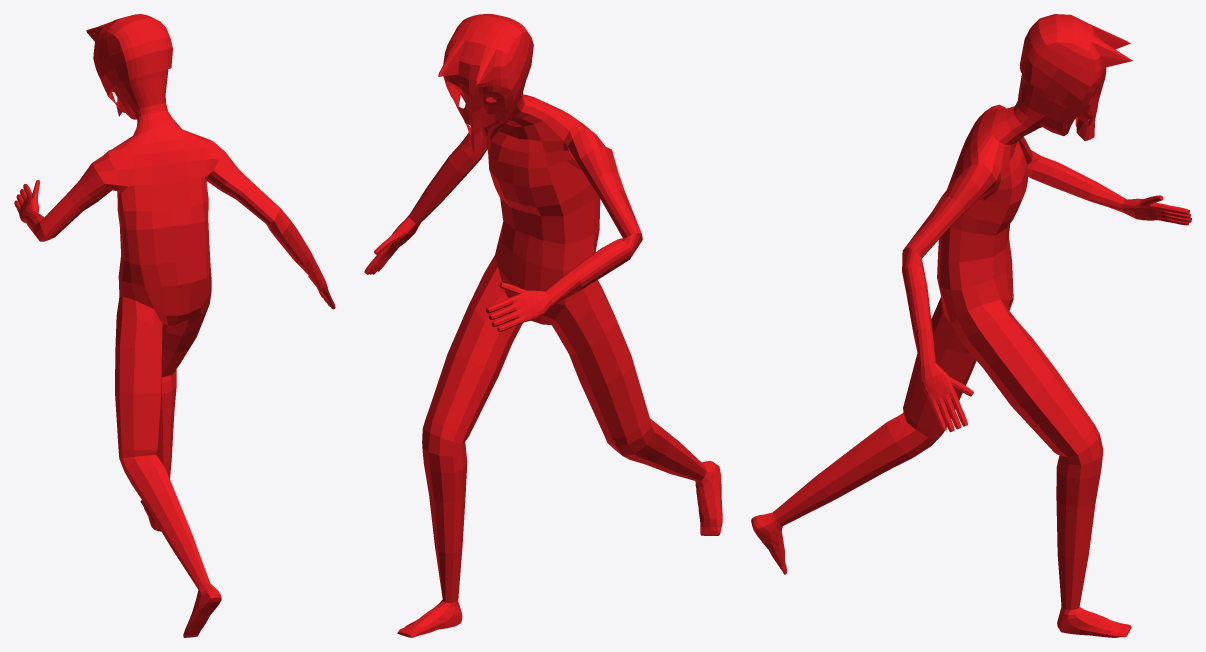
The model's file is marchaE_000055.obj.
3 views of the same model, side by side, from view 1: azimuth 30°, elevation 25°; view 2: azimuth 150°, elevation 25°; view 3: azimuth 270°, elevation 25° (orthographic). The views are drawn at different scales.
Visible parts, largest first — view 1: Plane.002_Plane.001; view 2: Plane.002_Plane.001; view 3: Plane.002_Plane.001.
Boxes of the visible parts, x1=… form: Plane.002_Plane.001: x1=14, y1=14, x2=335, y2=637; Plane.002_Plane.001: x1=364, y1=14, x2=722, y2=637; Plane.002_Plane.001: x1=751, y1=14, x2=1191, y2=637.
Size of the model in its own units: 3.42 by 6.49 by 4.36.
